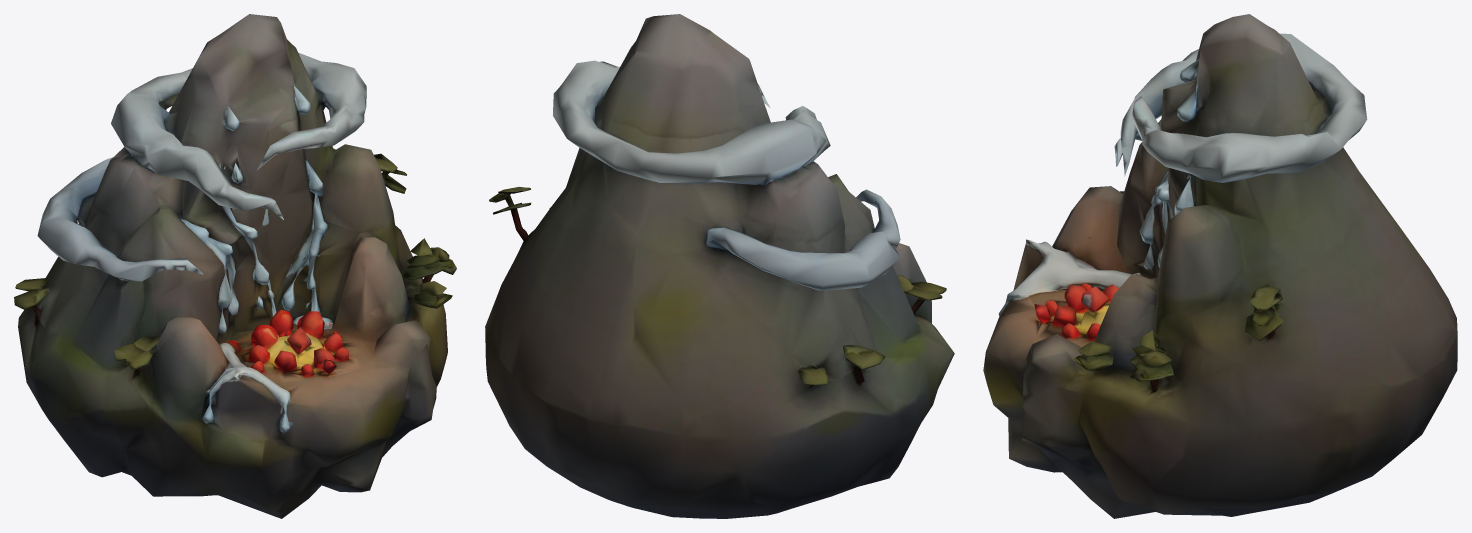
File: ganhe_wu_gui.glb
3 renders of one model, left to right at view 1: azimuth 30°, elevation 25°; view 2: azimuth 150°, elevation 25°; view 3: azimuth 270°, elevation 25°, orthographic. The views are drawn at different scales.
Visible parts, largest first — view 1: tripo_node_25a1275f-b3f7-4400-a1f4-1b8ad8ec147f; view 2: tripo_node_25a1275f-b3f7-4400-a1f4-1b8ad8ec147f; view 3: tripo_node_25a1275f-b3f7-4400-a1f4-1b8ad8ec147f.
Boxes of the visible parts, x1=… form: tripo_node_25a1275f-b3f7-4400-a1f4-1b8ad8ec147f: x1=14, y1=14, x2=456, y2=518; tripo_node_25a1275f-b3f7-4400-a1f4-1b8ad8ec147f: x1=485, y1=14, x2=954, y2=518; tripo_node_25a1275f-b3f7-4400-a1f4-1b8ad8ec147f: x1=983, y1=14, x2=1457, y2=518.
Bounding box in the file's own units: 0.8939 × 1 × 0.8726.
1 material, 1 textured.
